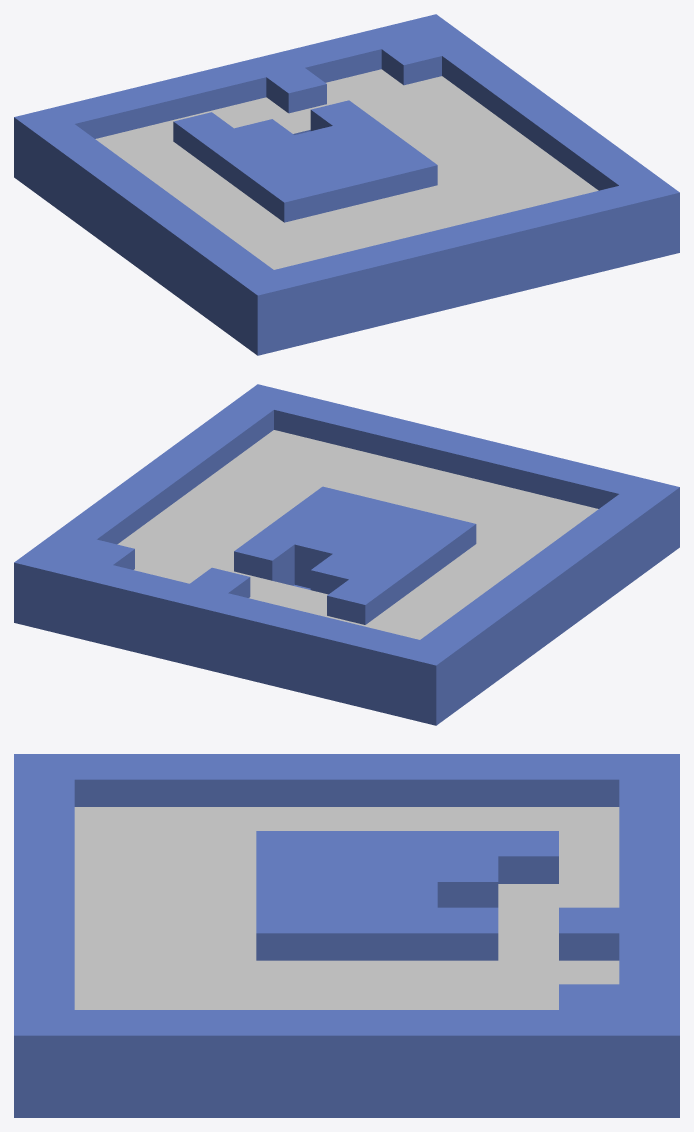
File: 010_platform.fbx
The picture shows the model from 3 angles, top to bottom: view 1: azimuth 30°, elevation 25°; view 2: azimuth 150°, elevation 25°; view 3: azimuth 270°, elevation 25°; orthographic projection. The views are drawn at different scales.
Visible parts, largest first — view 1: Cube; view 2: Cube; view 3: Cube.
Part boxes in pixels (x1,y1,x2,y2): Cube: (14,14,679,355); Cube: (14,384,679,725); Cube: (14,754,679,1117).
Bounding box in the file's own units: 1100 × 150 × 1100.
